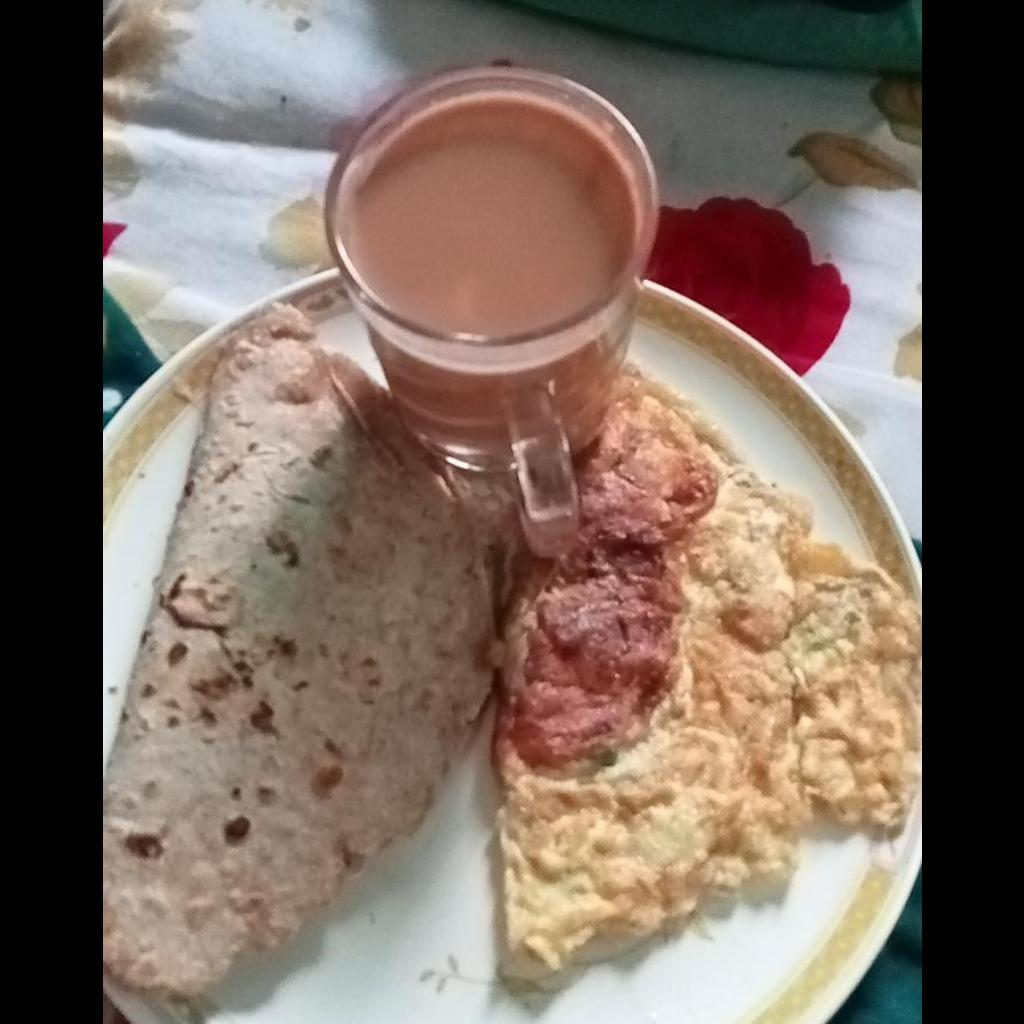cha: (350, 100, 631, 328)
egg-poached: (488, 363, 920, 991)
ruti: (103, 293, 509, 993)
